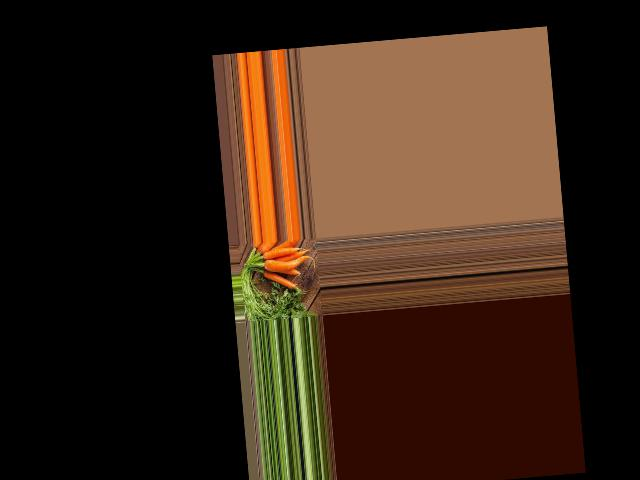carrot: (254, 240, 276, 258)
